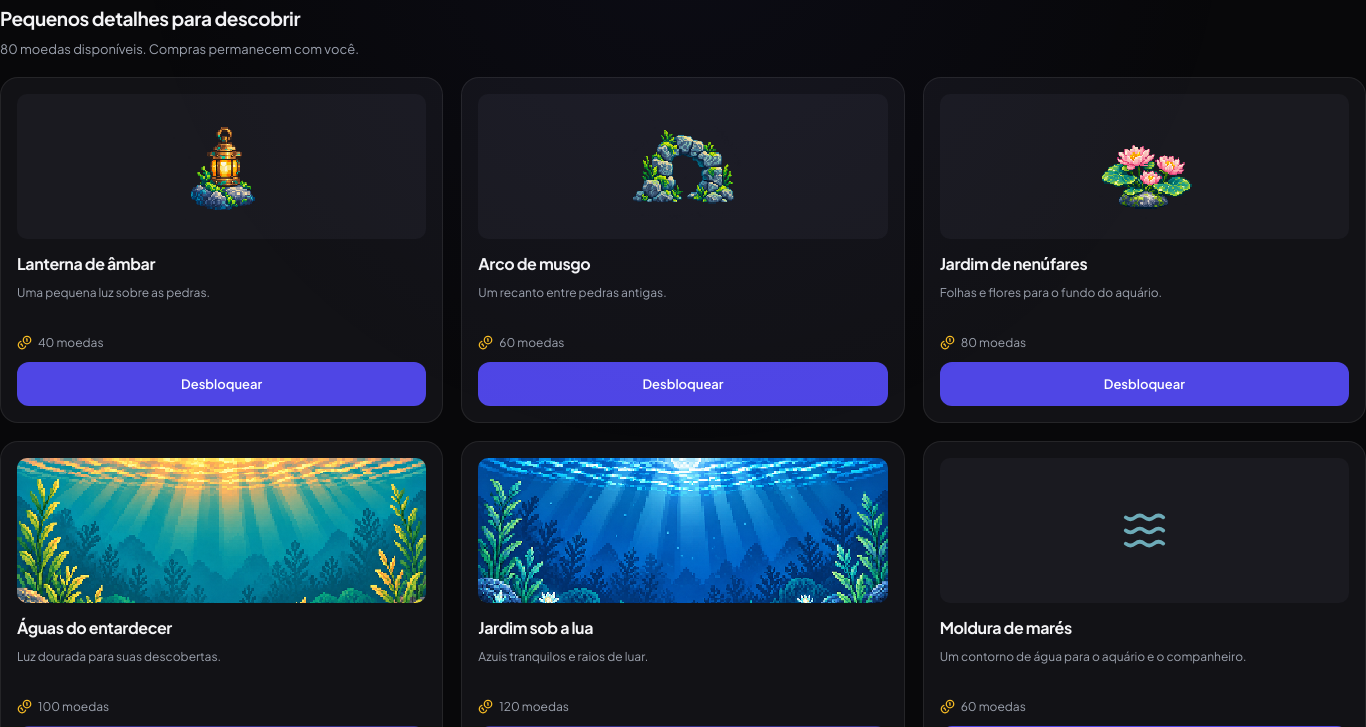
stage 4 real guest interactions › requires confirmation before a purchase and applies a real decoration to the scene
(page scrolled)
Click the button "Desbloquear" below "Uma pequena luz sobre as pedras." at (222, 384), box [17,362,426,406]
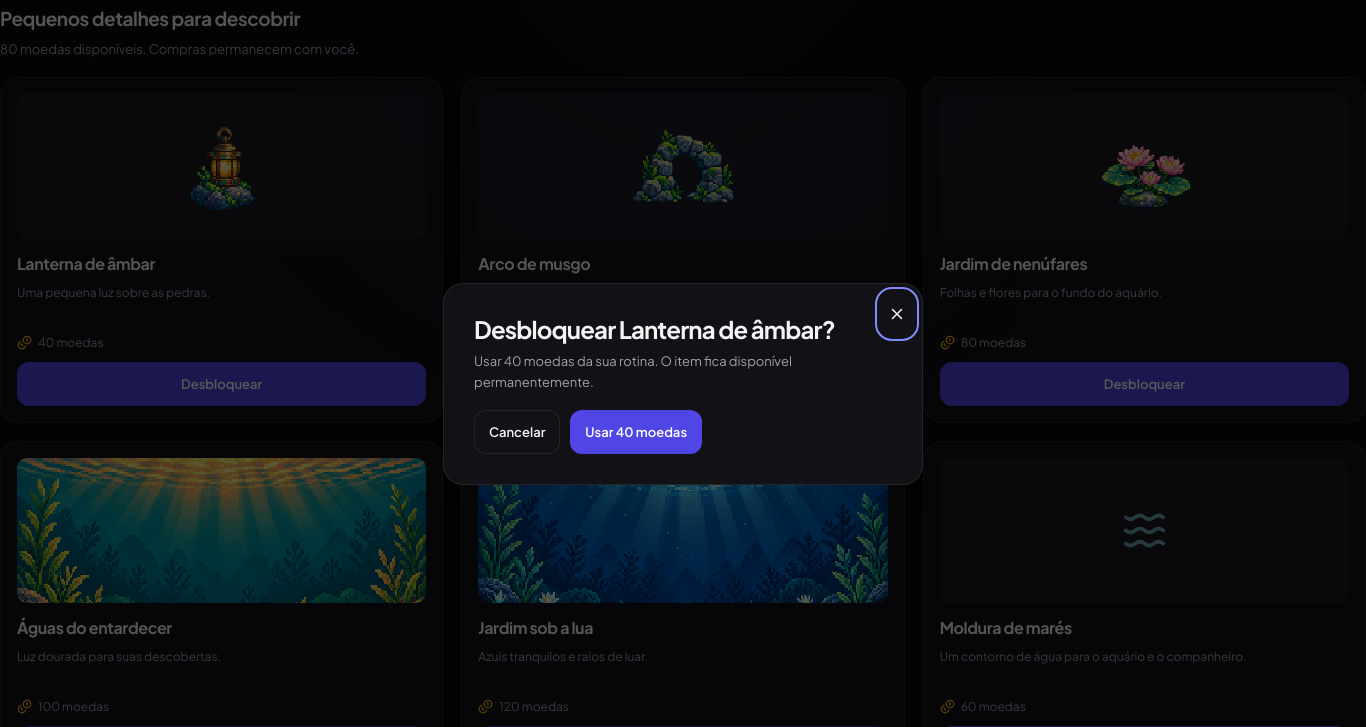
Expected: the dialog is shown, [443,284,923,485]
Click the button "Usar 40 moedas" at (636, 432), box [570,410,702,454]
(page scrolled)
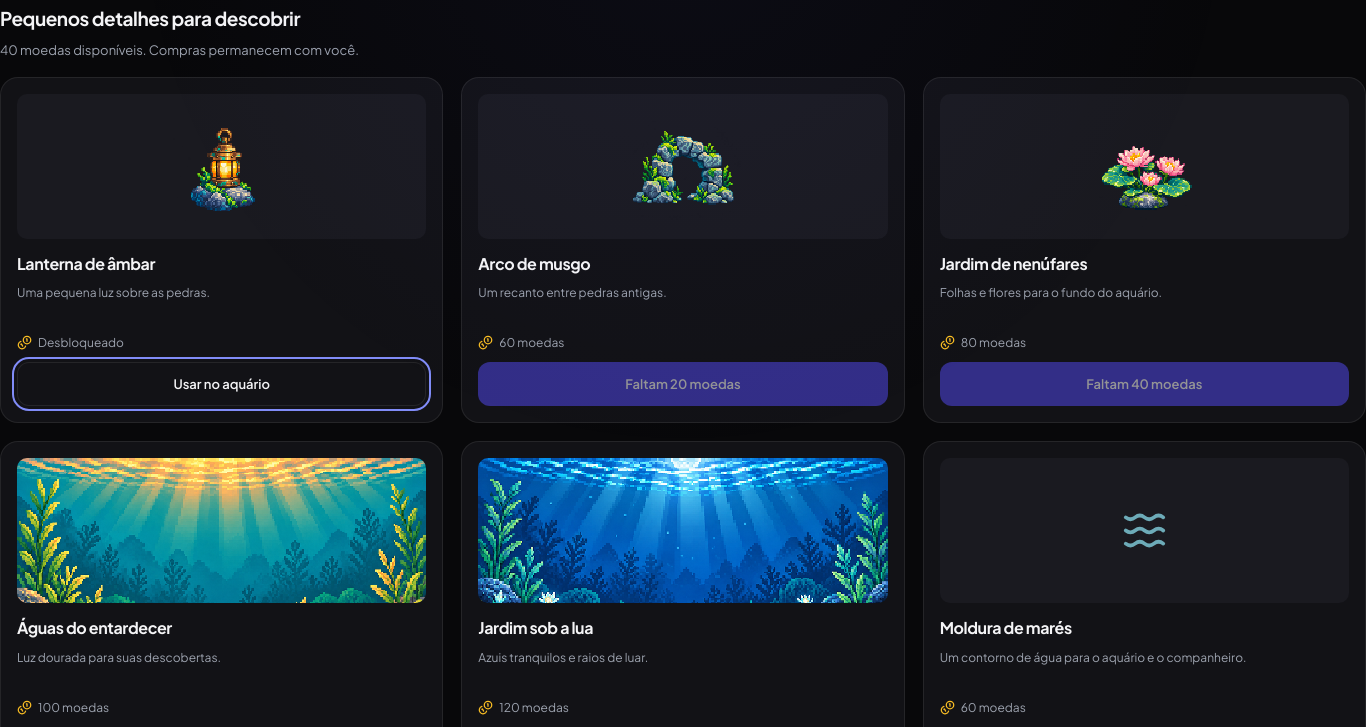
Click the button "Usar no aquário" at (222, 384), box [17,362,426,406]
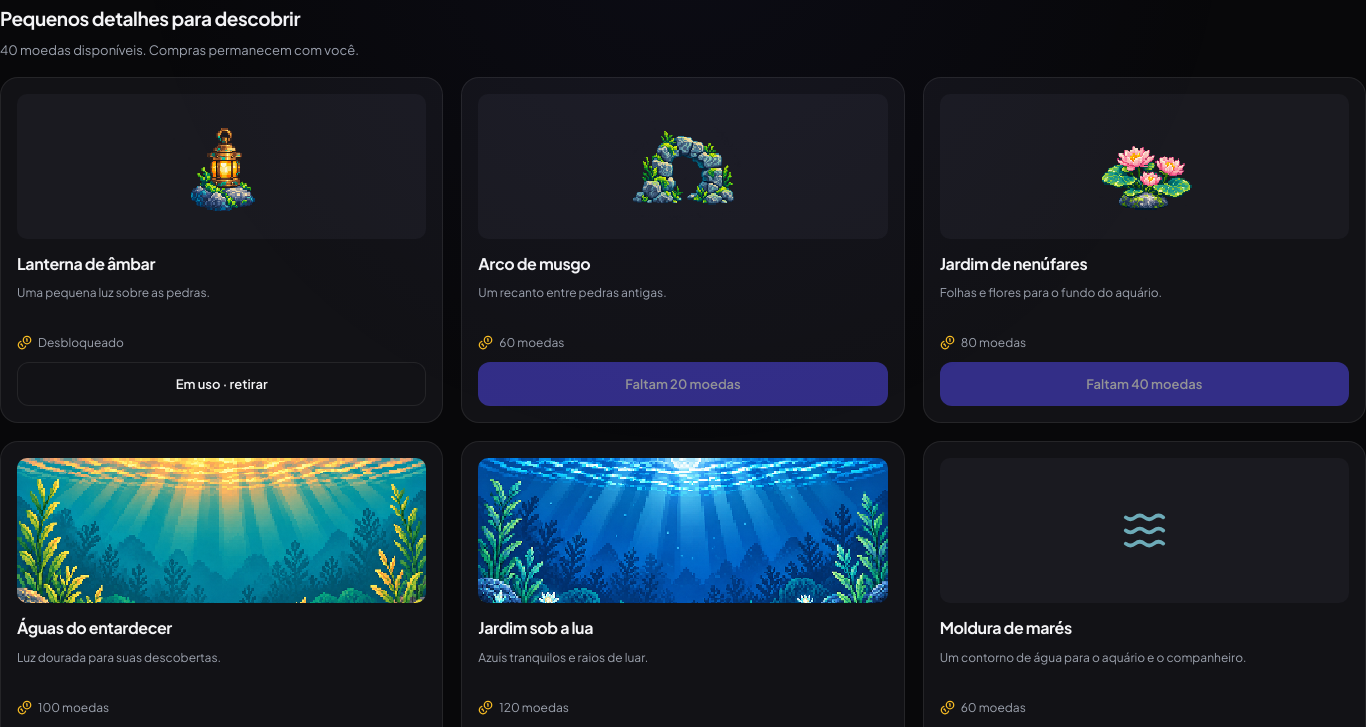
Expected: the button "Em uso · retirar" is shown, [17,362,426,406]
